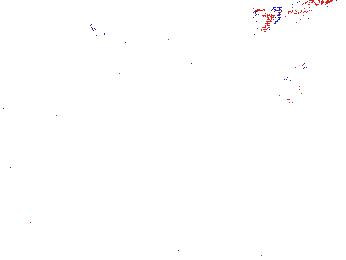glassfish: (68, 1, 216, 70)
redtail glassfish: (256, 1, 335, 30), (267, 67, 327, 87)
